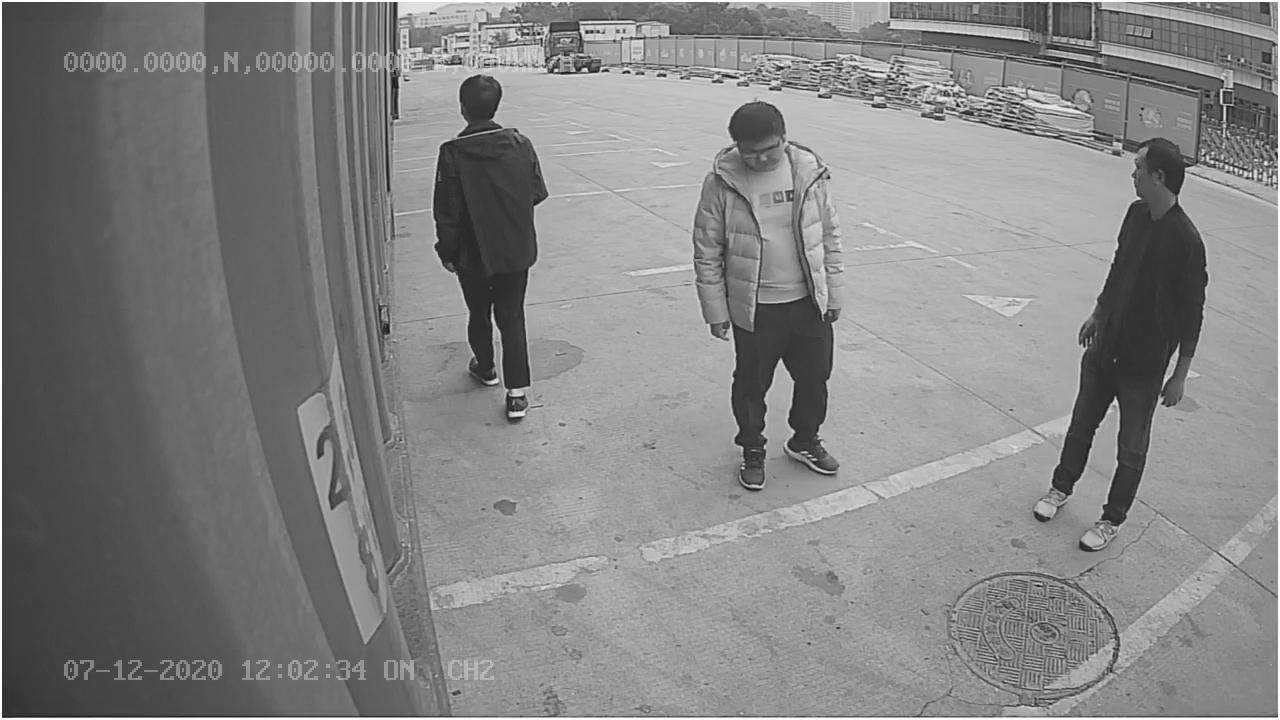person: (1029, 129, 1210, 553), (690, 98, 854, 489), (425, 73, 553, 421)
